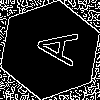A: (25, 25, 79, 67)
